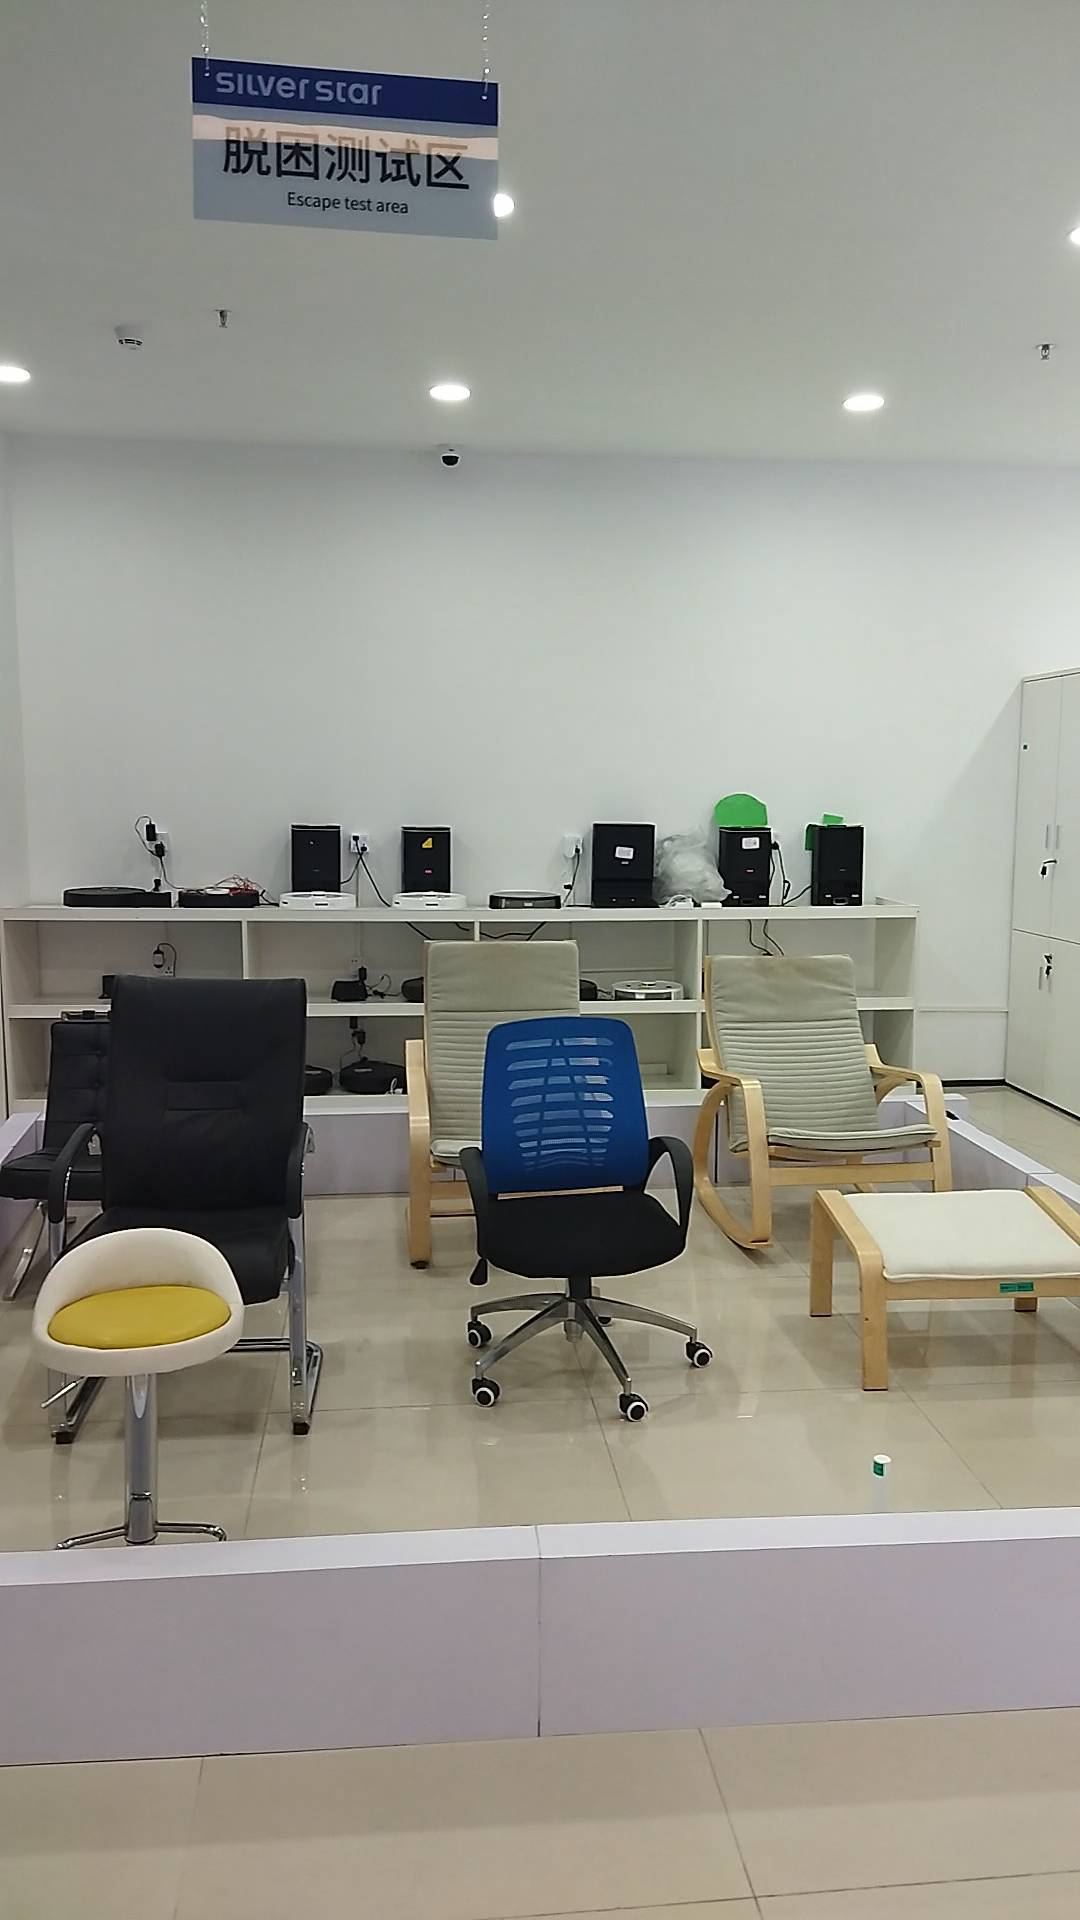dust collecting barrel: (589, 822, 665, 911), (807, 824, 870, 906), (713, 827, 777, 905), (289, 823, 345, 895), (400, 827, 458, 893)
recharge seat: (330, 977, 373, 1004)
